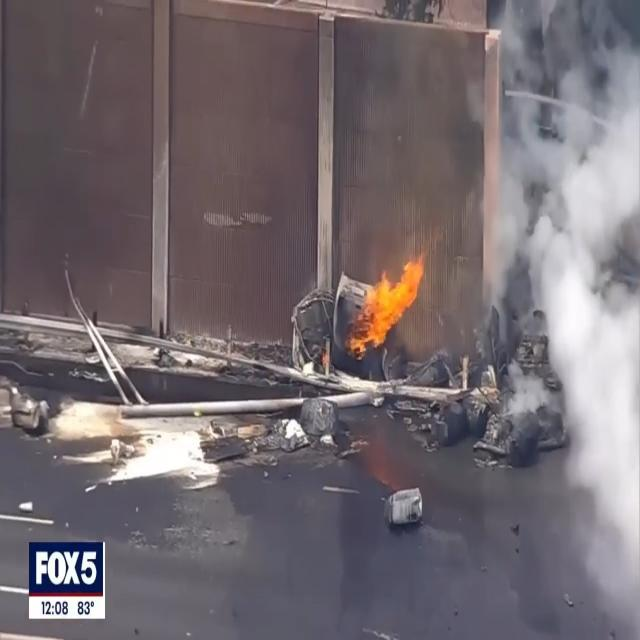fire: (346, 254, 434, 363)
